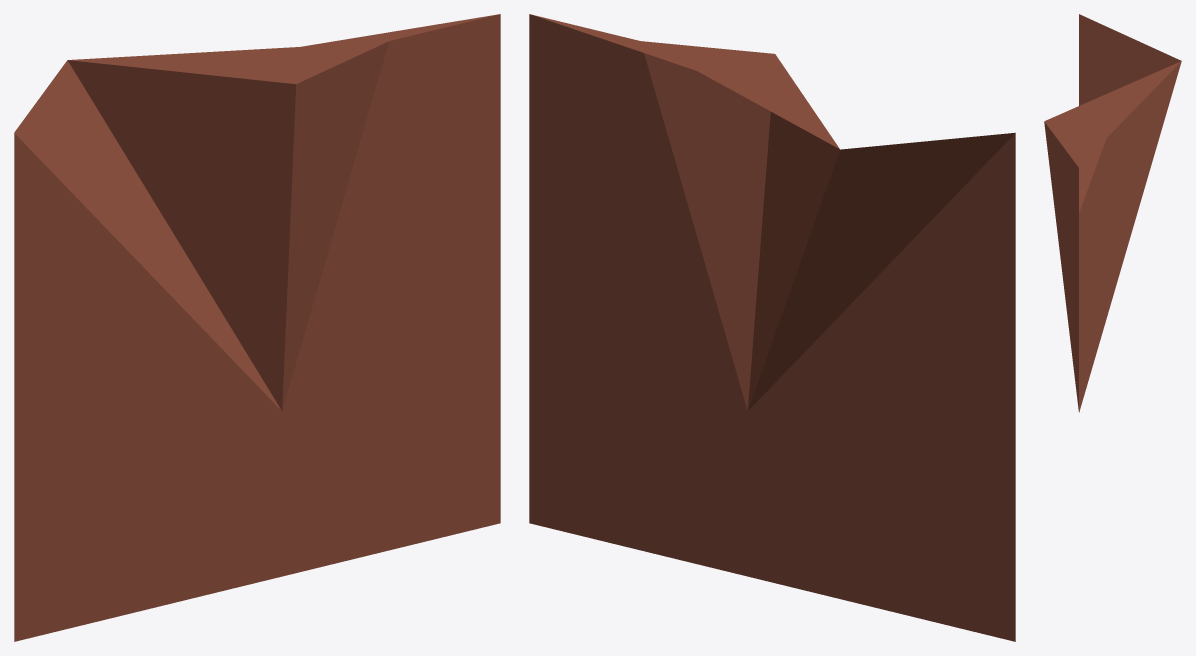
File: Wall_008.FBX
3 views of the same model, side by side, from view 1: azimuth 30°, elevation 25°; view 2: azimuth 150°, elevation 25°; view 3: azimuth 270°, elevation 25° (orthographic). The views are drawn at different scales.
Parts seen in each view (by area): view 1: Wall_008; view 2: Wall_008; view 3: Wall_008.
Boxes of the visible parts, x1=… form: Wall_008: x1=14, y1=14, x2=500, y2=641; Wall_008: x1=529, y1=14, x2=1015, y2=641; Wall_008: x1=1044, y1=14, x2=1181, y2=412.
Bounding box in the file's own units: 78.74 × 78.76 × 22.94.
